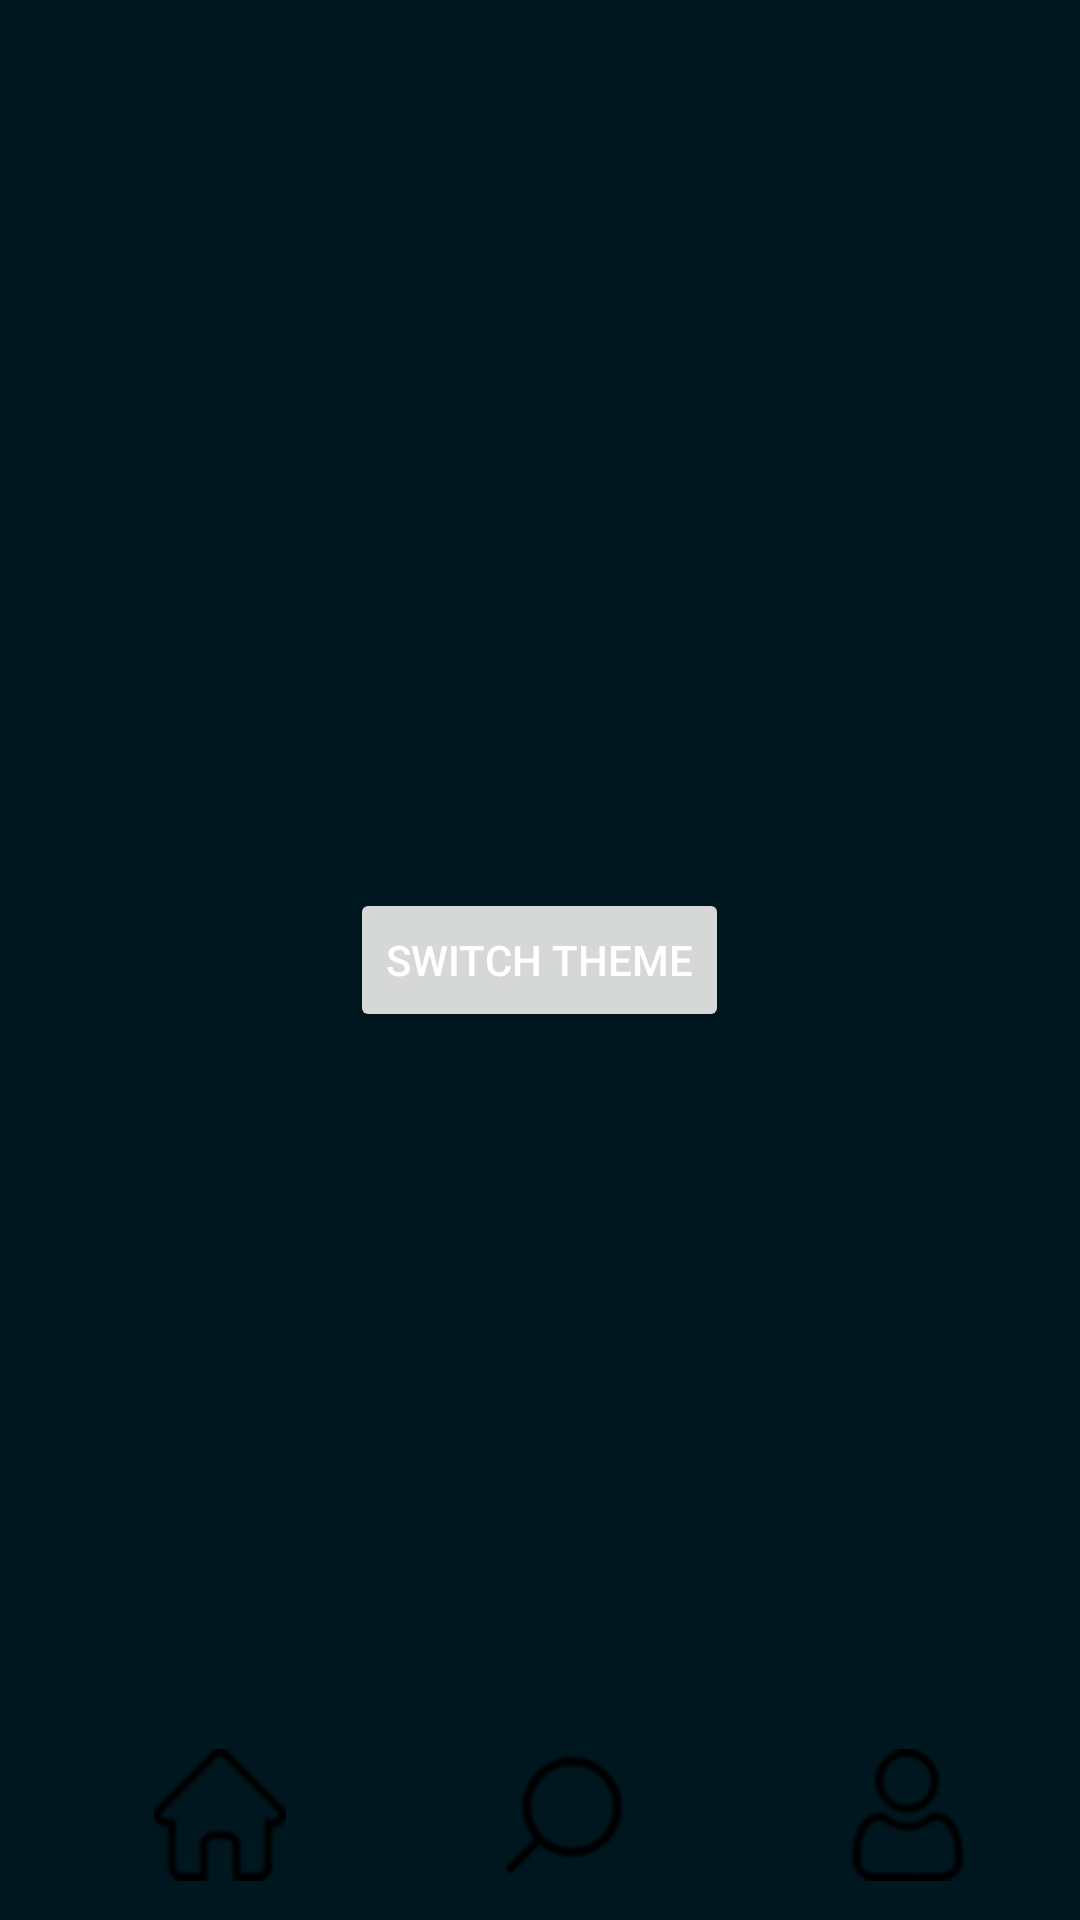

Where icons sit on this 1080*1920 app screen, as (x1, y1, x2, y2):
Home: (154, 1749, 286, 1881)
Search: (508, 1759, 620, 1871)
User: (855, 1749, 961, 1881)
